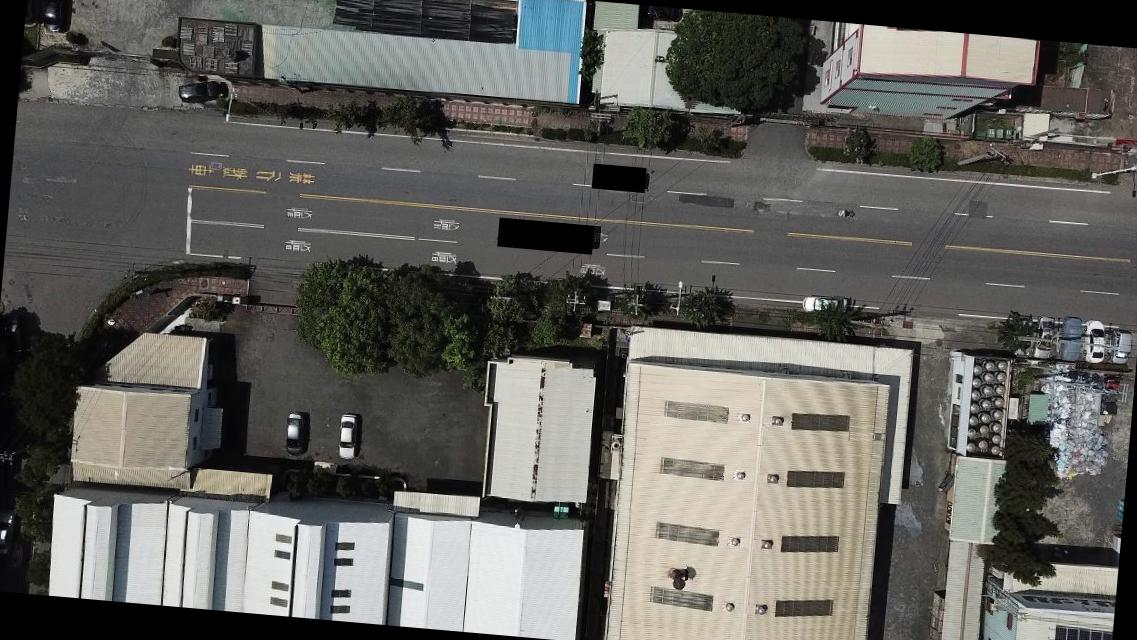vehicle: (178, 77, 226, 106), (280, 412, 305, 458), (1079, 320, 1105, 364), (336, 414, 358, 464), (41, 0, 72, 34), (1106, 327, 1132, 366), (800, 295, 846, 317), (1034, 315, 1056, 360), (1012, 317, 1032, 357), (0, 510, 14, 558)
